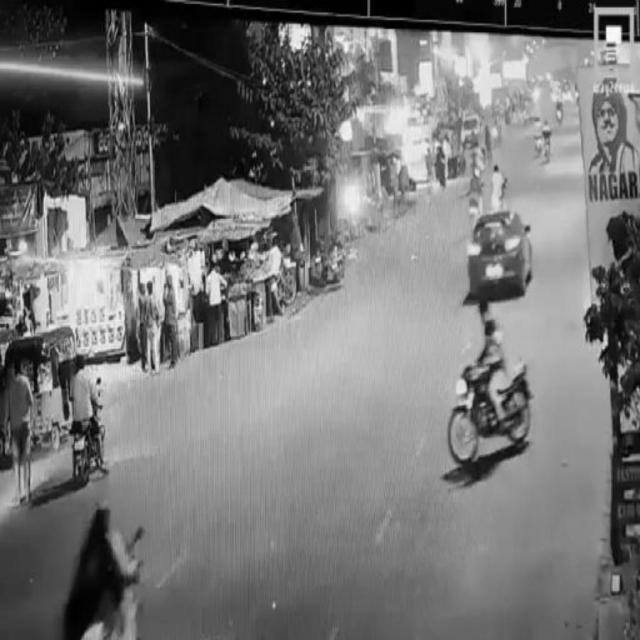person: (8, 361, 36, 505), (143, 277, 161, 370)
vehicle: (446, 299, 534, 464), (9, 327, 76, 445), (463, 213, 534, 285), (66, 357, 104, 481)
